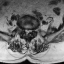CCS_normal: (27, 27, 29, 38)
LFS_stenosis: (31, 26, 34, 33)
LLS_normal: (29, 27, 31, 37)
RFS_severe_stenosis: (23, 26, 25, 33)
RLS_normal: (25, 27, 27, 37)
